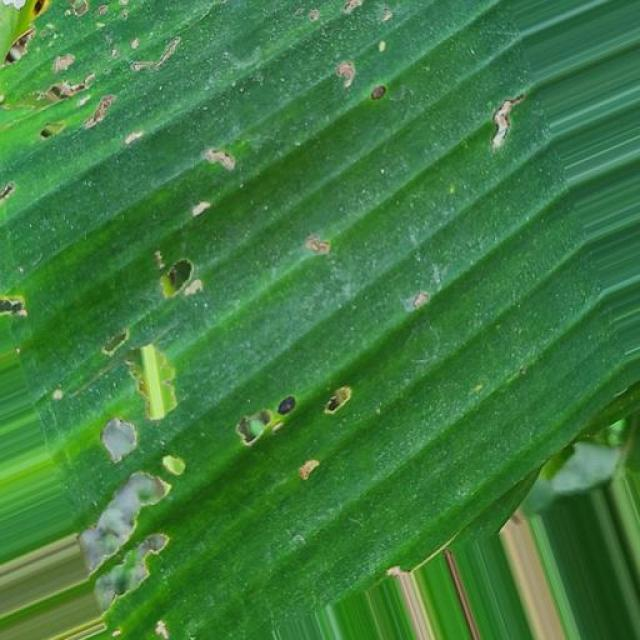Black_rot: (3, 11, 558, 612)
